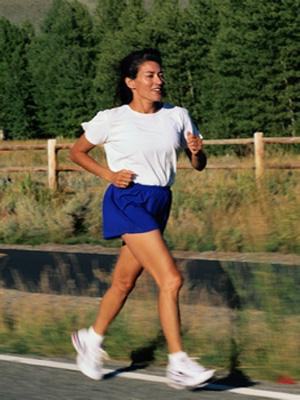person: (69, 50, 217, 392)
